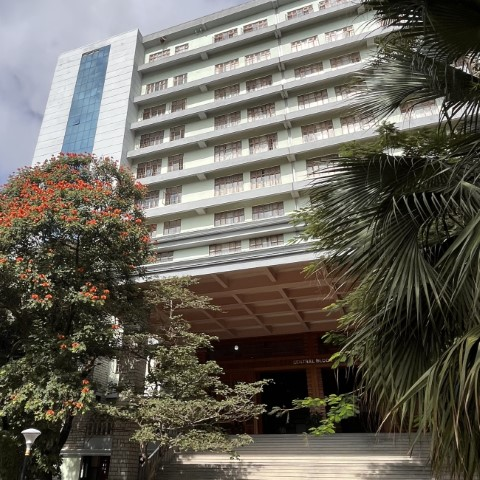Central Block: (38, 24, 409, 480)
